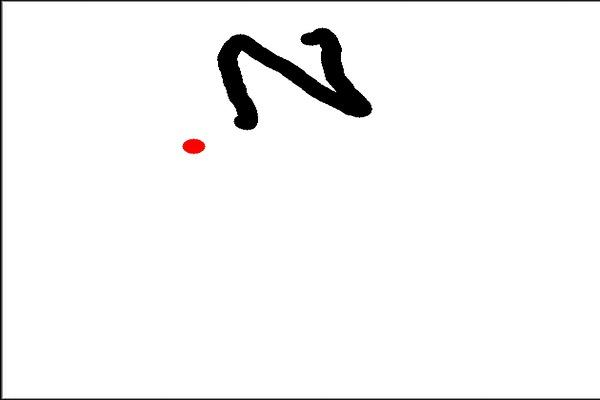N: (212, 20, 381, 134)
